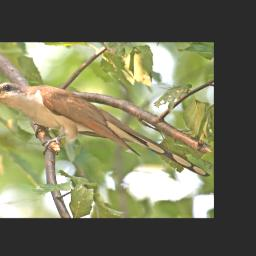Cuckoo: (0, 81, 212, 178)
